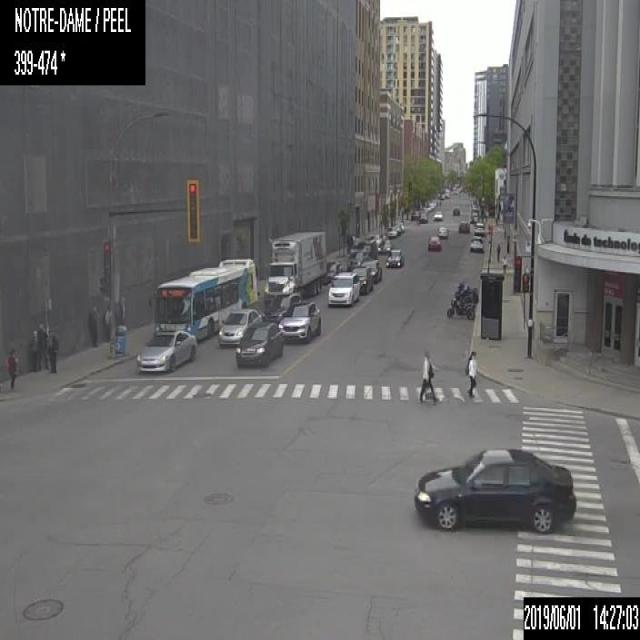bus: (154, 257, 256, 339)
pedestrian: (419, 351, 437, 405), (465, 351, 477, 396), (37, 323, 48, 370), (48, 333, 58, 372), (6, 347, 14, 392), (89, 306, 97, 346), (31, 328, 38, 373), (102, 304, 109, 340), (118, 297, 126, 320), (501, 254, 508, 274), (496, 242, 500, 260)
vehicle: (412, 444, 577, 535), (264, 230, 326, 302), (136, 328, 196, 374), (235, 321, 282, 366), (277, 300, 320, 342), (218, 307, 262, 348), (328, 271, 360, 307), (266, 292, 302, 321), (346, 236, 376, 268), (447, 296, 474, 318), (351, 267, 372, 294), (320, 260, 342, 284), (361, 258, 382, 282), (454, 282, 478, 301), (384, 247, 404, 267), (469, 235, 484, 253), (427, 235, 442, 250), (377, 239, 393, 253), (436, 225, 448, 238), (474, 221, 484, 235), (393, 222, 404, 234), (457, 221, 468, 232), (432, 209, 442, 220), (386, 226, 396, 237), (410, 210, 418, 220), (470, 211, 478, 221), (419, 212, 427, 221), (375, 233, 381, 245), (451, 207, 459, 214)
